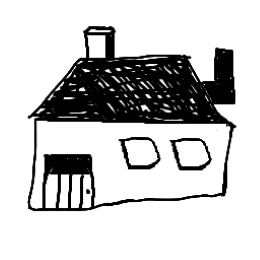chimney: (201, 44, 238, 109), (76, 19, 124, 61)
door: (40, 146, 97, 214)
open_window: (112, 132, 165, 172), (168, 135, 211, 176)
shaded_roof: (24, 49, 240, 125)
wall: (23, 119, 242, 217)
